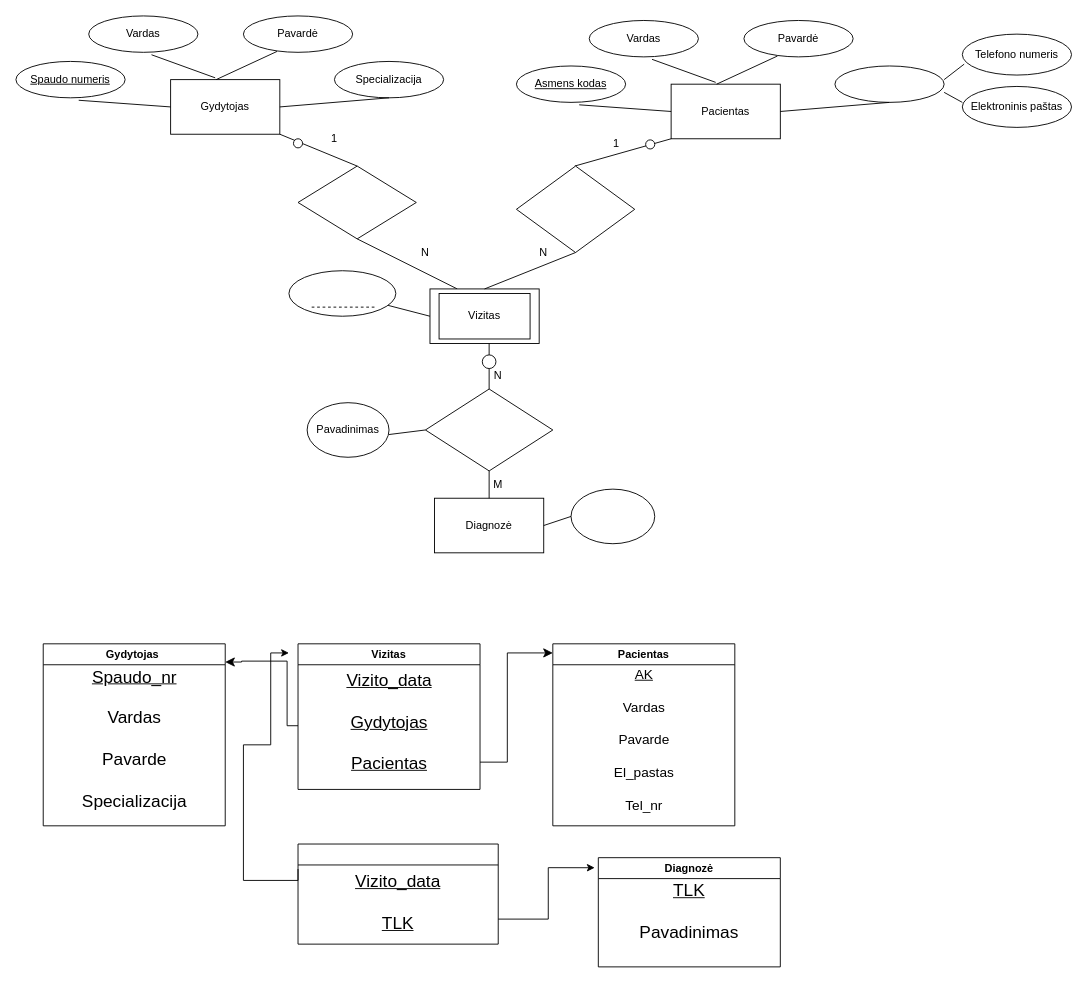
The diagram is 1087 pixels wide and 983 high, and some of its shapes have lost their labels. Each missing label, with the box of its shape:
Apsilankymas pas gydytoją: (516, 165, 635, 253)
Kontaktai: (834, 65, 944, 102)
Nustatyta diagnozė: (425, 388, 553, 471)
Paciento apžiūra: (297, 165, 416, 239)
TLK kodas: (570, 488, 655, 544)
Vizito data: (288, 270, 396, 316)
Vizito_diagnoze: (297, 843, 498, 944)
